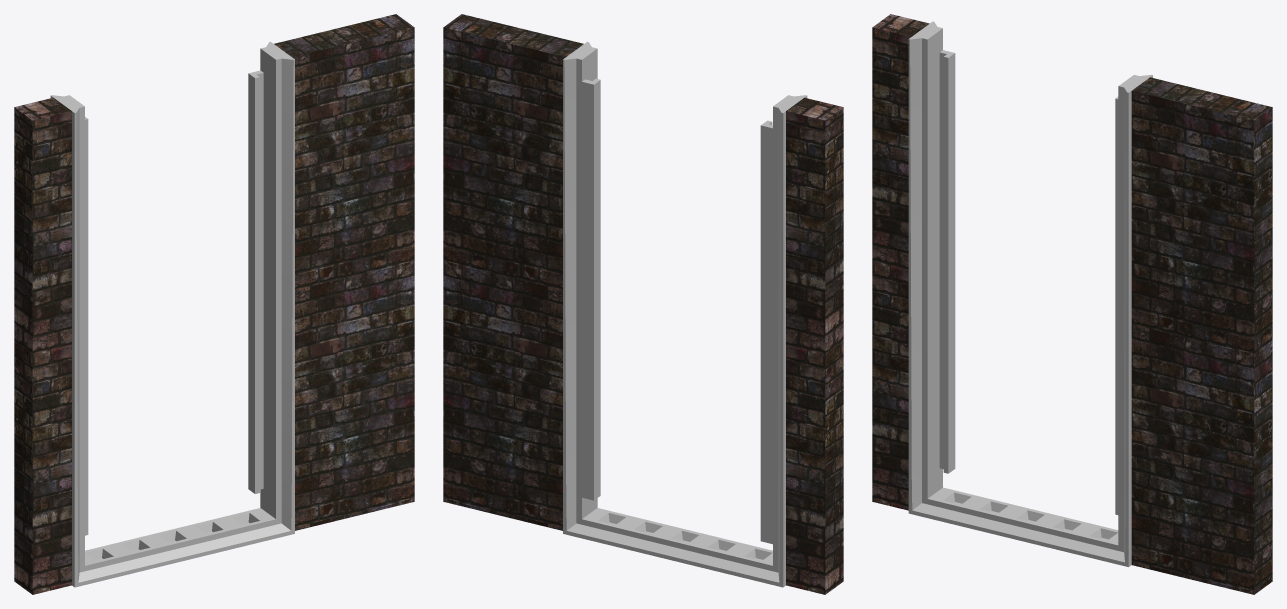
File: bulkhead_frame.DAE
3 views of the same model, side by side, from view 1: azimuth 30°, elevation 25°; view 2: azimuth 150°, elevation 25°; view 3: azimuth 330°, elevation 25° (orthographic).
Parts seen in each view (by area): view 1: wall_ends, bulkhead_frame; view 2: wall_ends, bulkhead_frame; view 3: wall_ends, bulkhead_frame.
Boxes of the visible parts, x1,y1,x2,y2 form: wall_ends: (14, 14, 414, 594); bulkhead_frame: (50, 41, 294, 587); wall_ends: (443, 14, 843, 594); bulkhead_frame: (563, 41, 807, 587); wall_ends: (872, 14, 1272, 594); bulkhead_frame: (908, 21, 1152, 567).
Size of the model in its own units: 2.53 by 0.2783 by 3.
